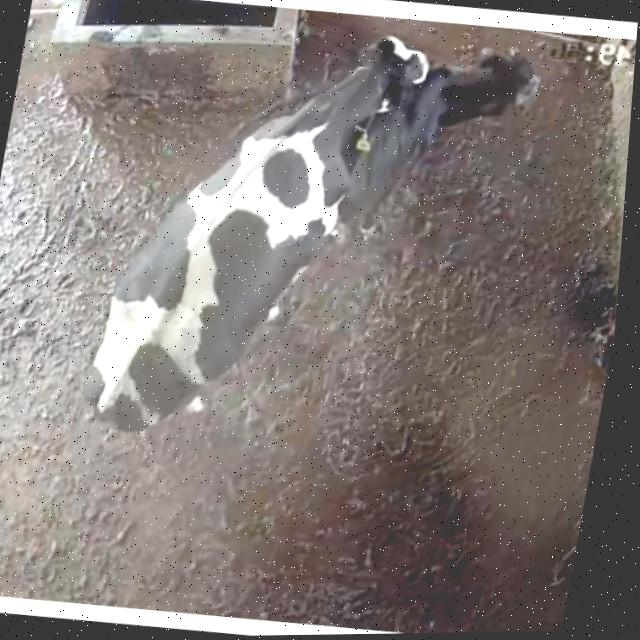ride: (52, 0, 446, 470)
